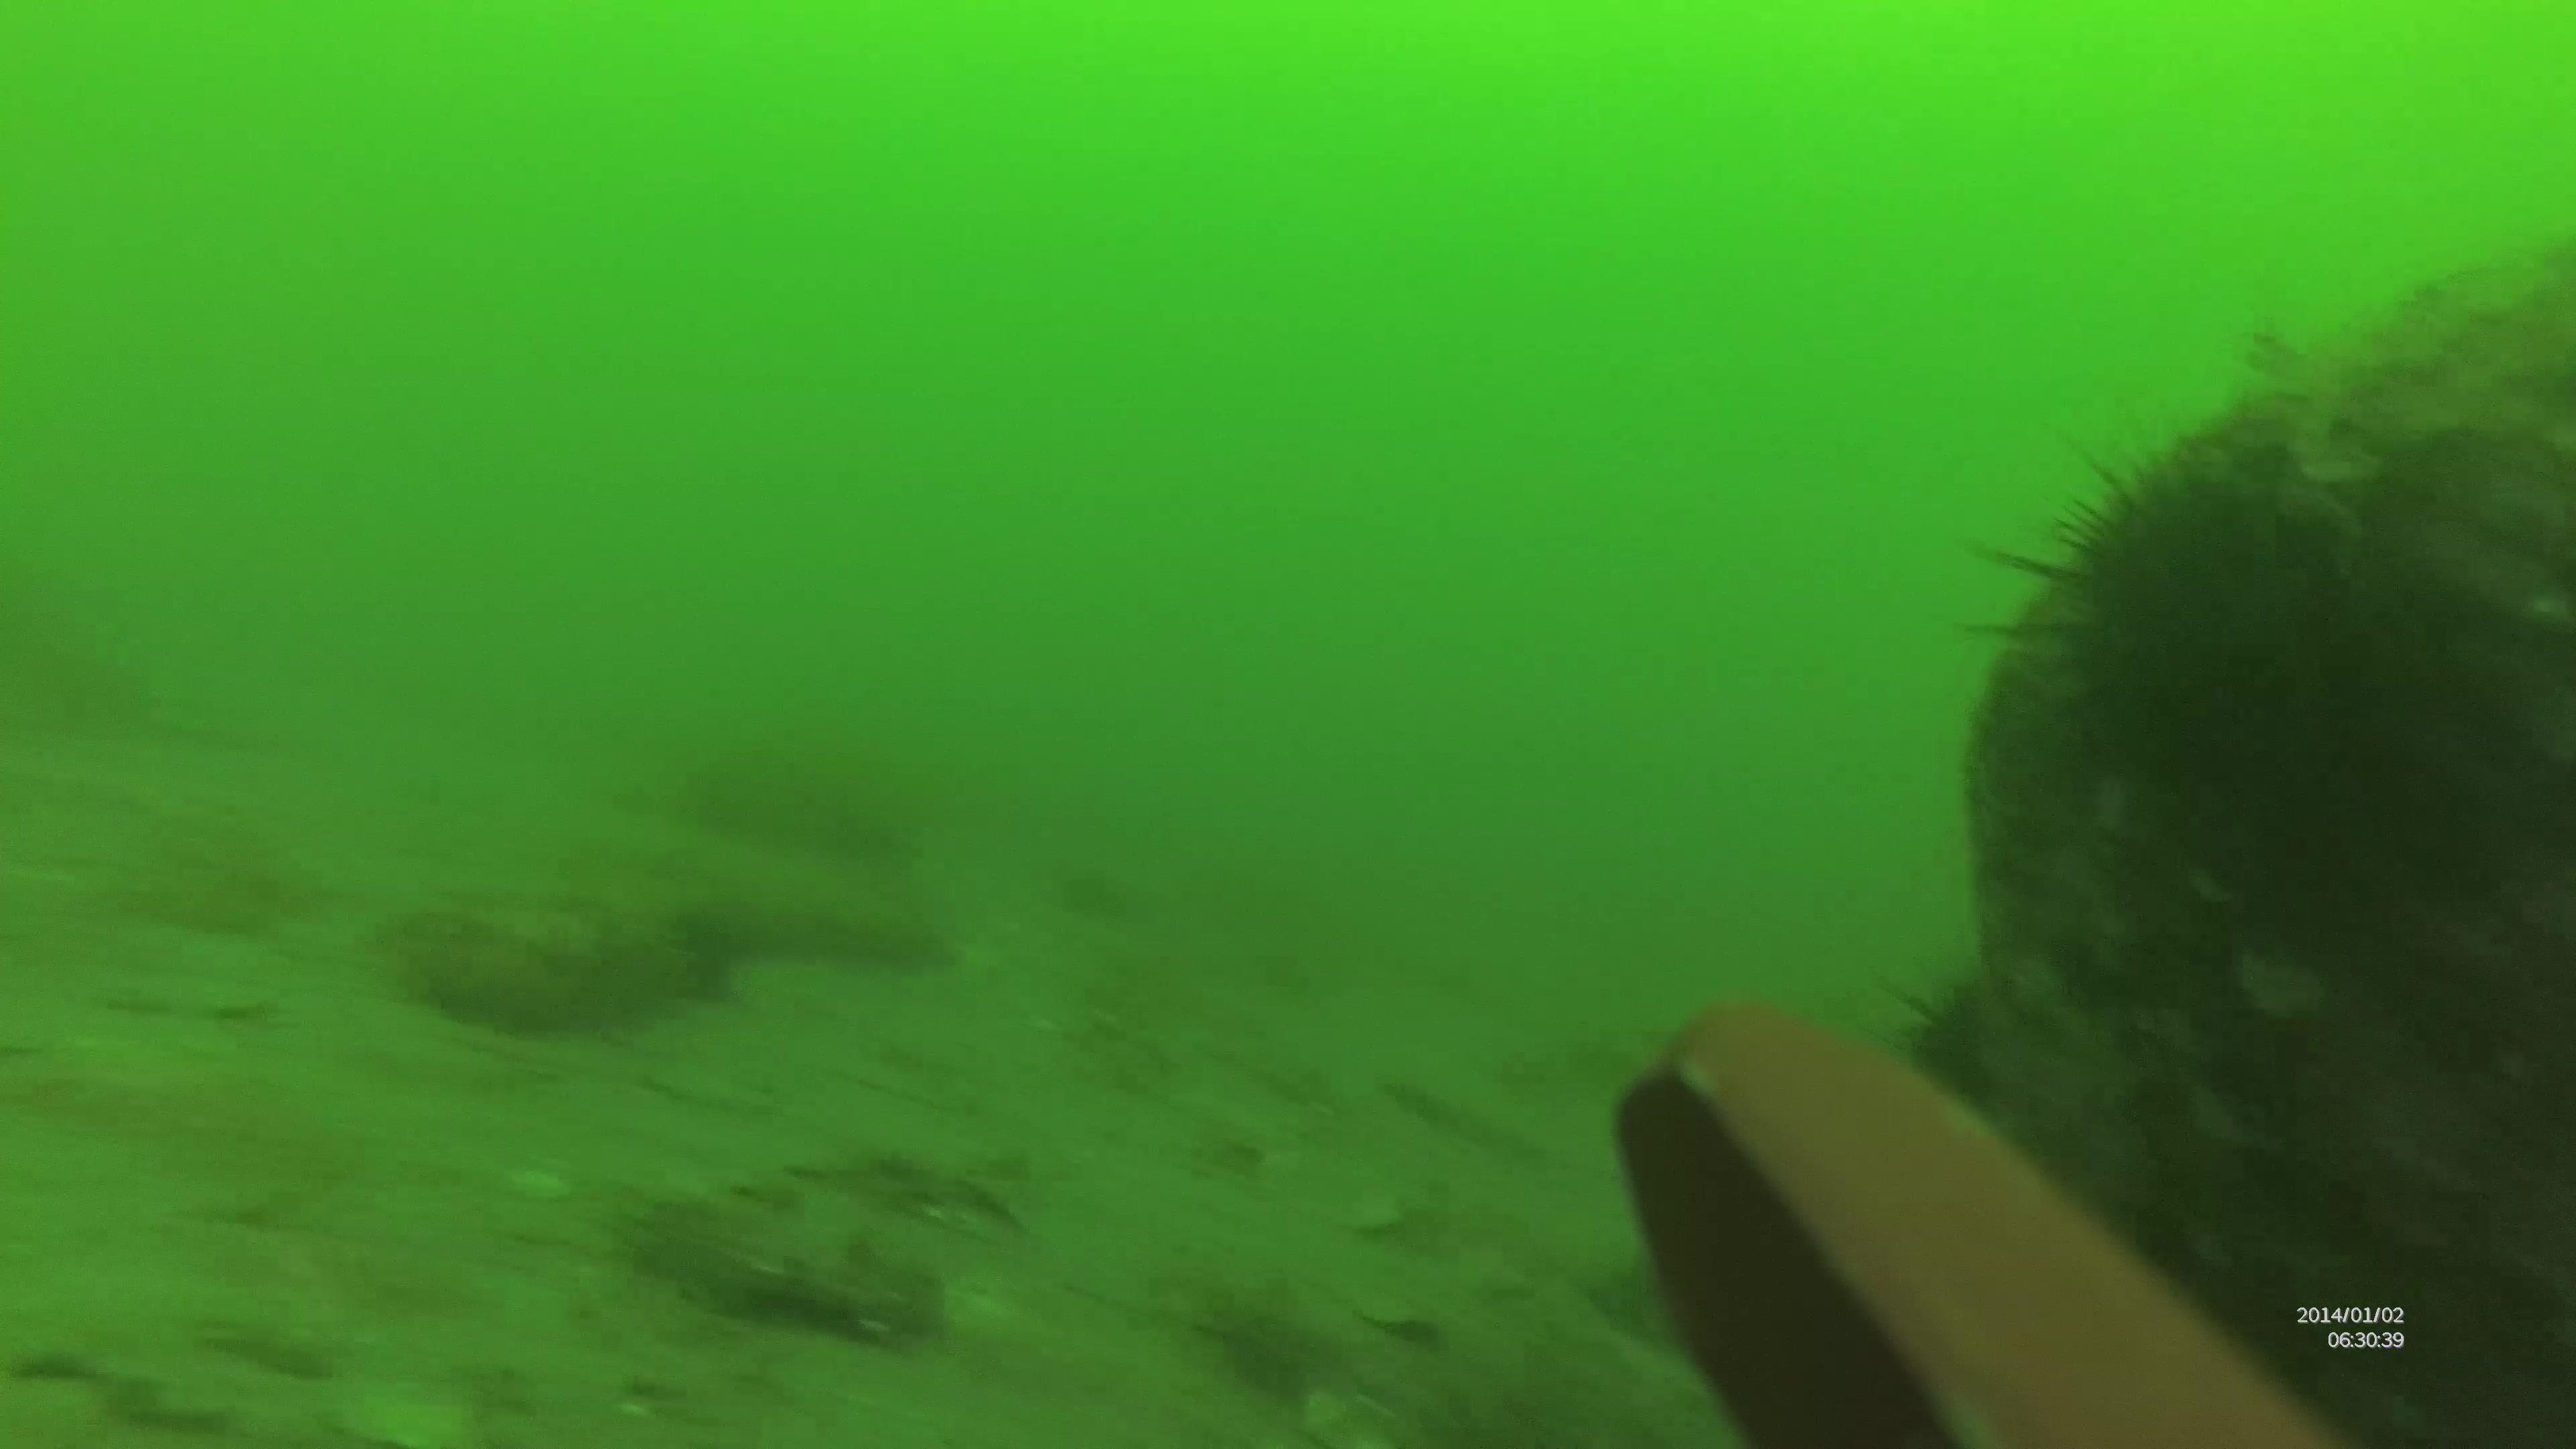echinus: (1953, 400, 2390, 870)
